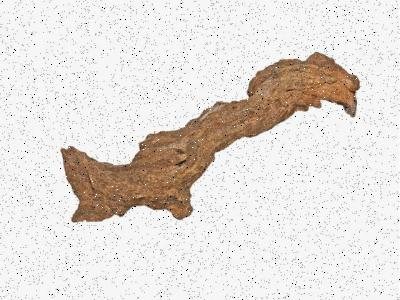Root: (61, 52, 359, 221)
